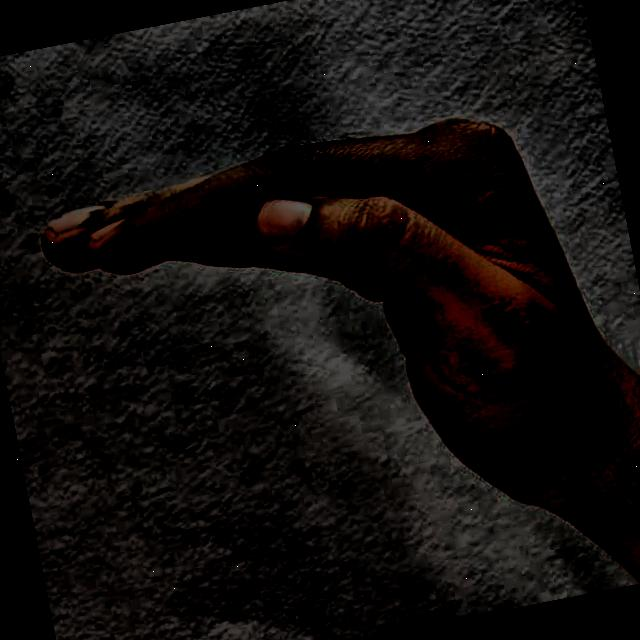Ga: (12, 58, 640, 616)
